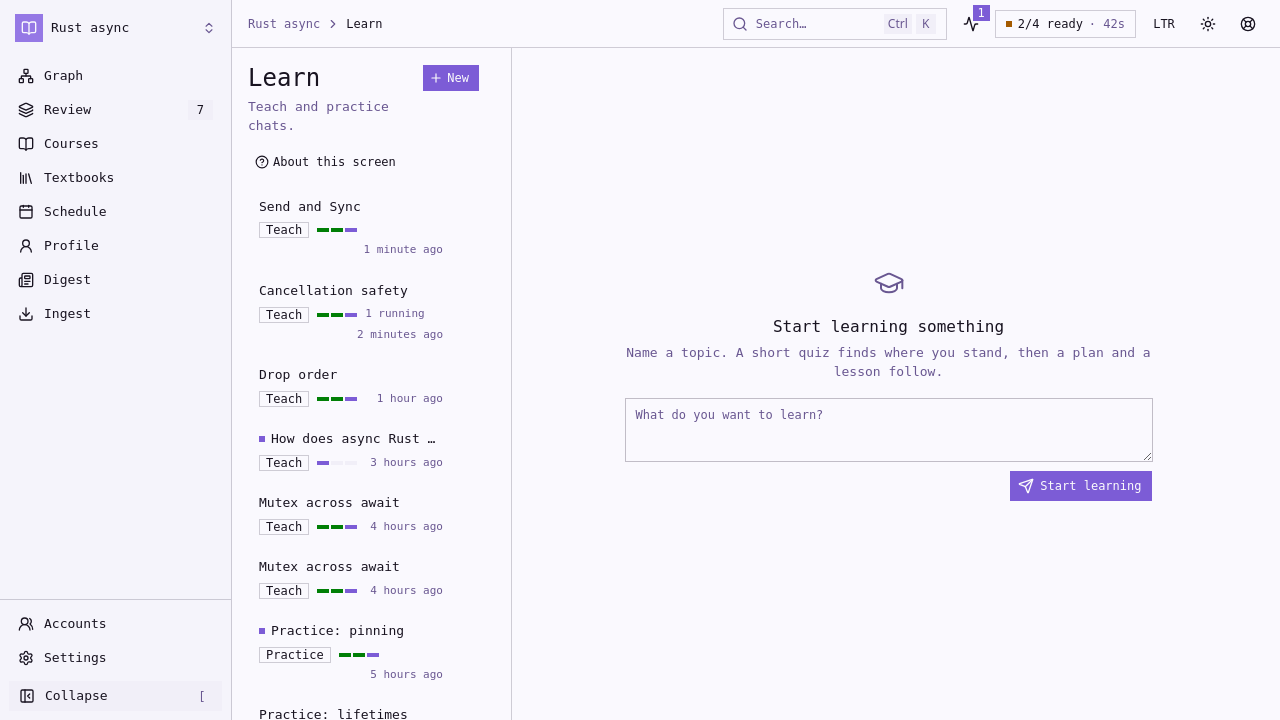
Test: StartLearning and NewChatDialog › will not start without a topic
The width and height of the screenshot is (1280, 720).
expect the navigation bar with test id "chat-list" is shown: met, box [248,188,480,719]
Step 1. Click the button with test id "start-submit" → click(1081, 486), box [1009,470,1152,502]
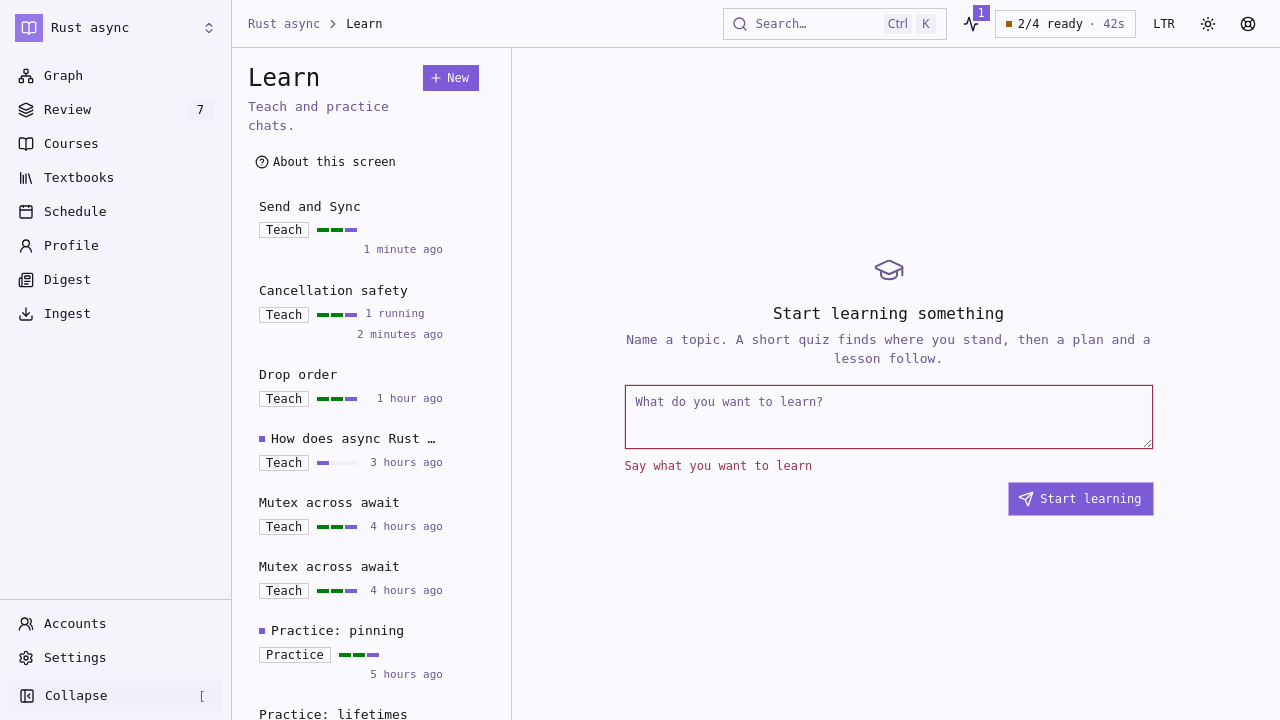
expect the message reads "Say what you want to learn": met, box [624,458,812,472]
